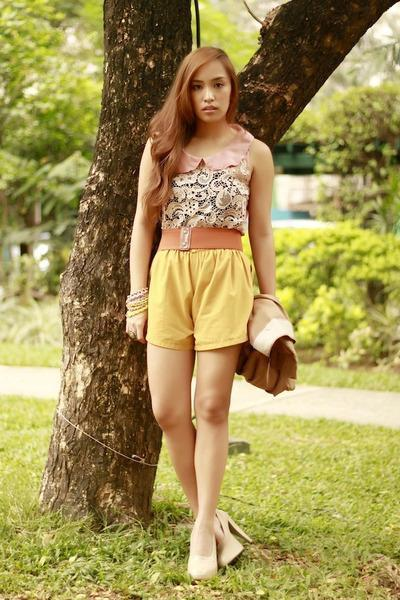bag: (234, 288, 297, 395)
shirt: (162, 142, 248, 243)
shoe: (187, 509, 243, 577)
shorts: (143, 249, 269, 347)
